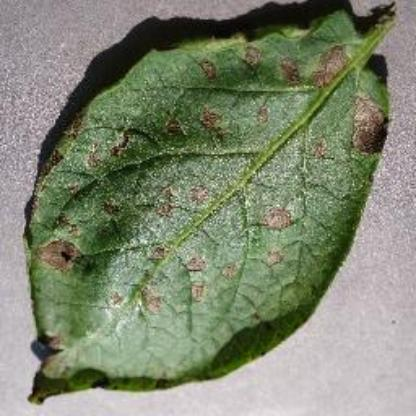Early-Blight: (21, 0, 415, 408)
